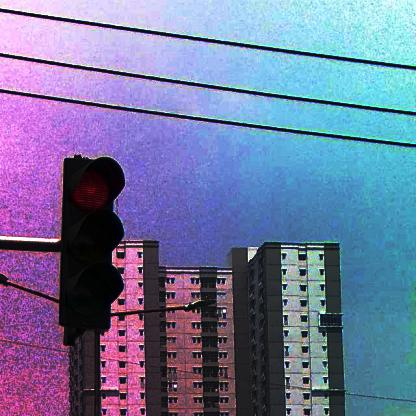Traffic Light -Red-: (61, 157, 122, 329)
